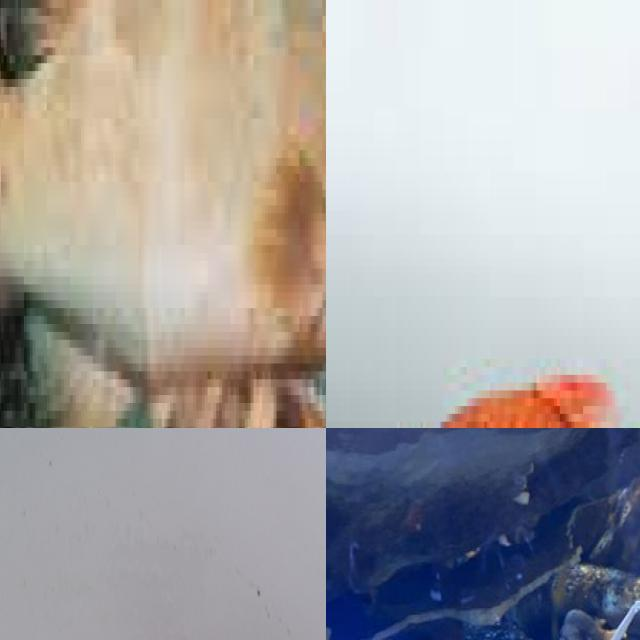fish: (0, 0, 326, 428), (326, 179, 640, 428), (429, 595, 640, 640)
